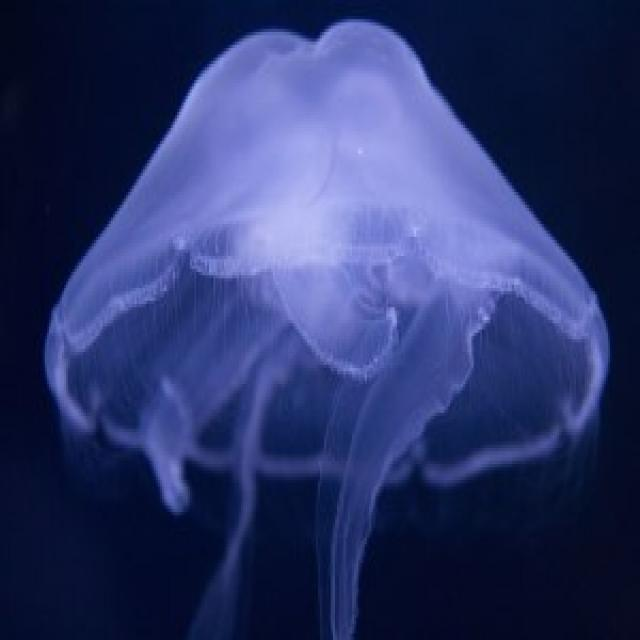Jellyfish: (11, 26, 606, 594)
